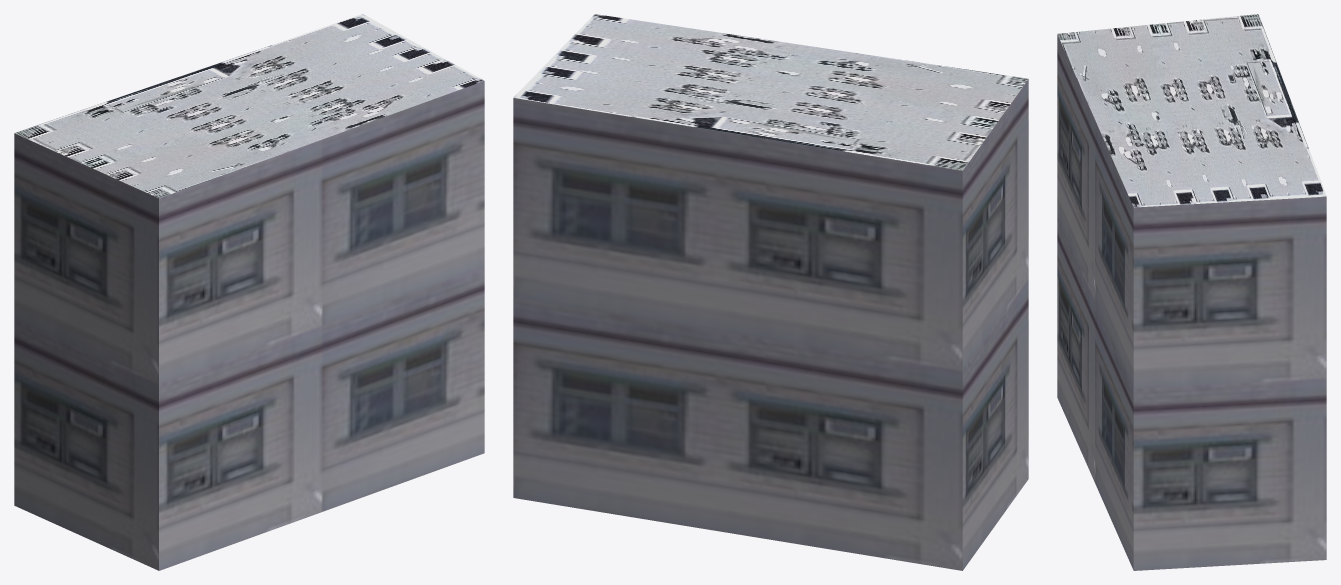
Rendered from ResTex__4670.fbx.
The picture shows the model from 3 angles, left to right: view 1: azimuth 30°, elevation 25°; view 2: azimuth 150°, elevation 25°; view 3: azimuth 270°, elevation 25°; orthographic projection. The views are drawn at different scales.
Parts seen in each view (by area): view 1: CityEngineMaterial_1_m, CityEngineMaterial_8_m; view 2: CityEngineMaterial_1_m, CityEngineMaterial_8_m; view 3: CityEngineMaterial_1_m, CityEngineMaterial_8_m.
Part boxes in pixels (x1=…): CityEngineMaterial_1_m: x1=14, y1=81, x2=484, y2=570; CityEngineMaterial_8_m: x1=14, y1=14, x2=484, y2=198; CityEngineMaterial_1_m: x1=513, y1=79, x2=1028, y2=570; CityEngineMaterial_8_m: x1=513, y1=14, x2=1028, y2=170; CityEngineMaterial_1_m: x1=1057, y1=35, x2=1326, y2=570; CityEngineMaterial_8_m: x1=1057, y1=14, x2=1326, y2=207.
Bounding box in the file's own units: 6.85 × 6 × 4.03.
2 materials, 2 textured.
